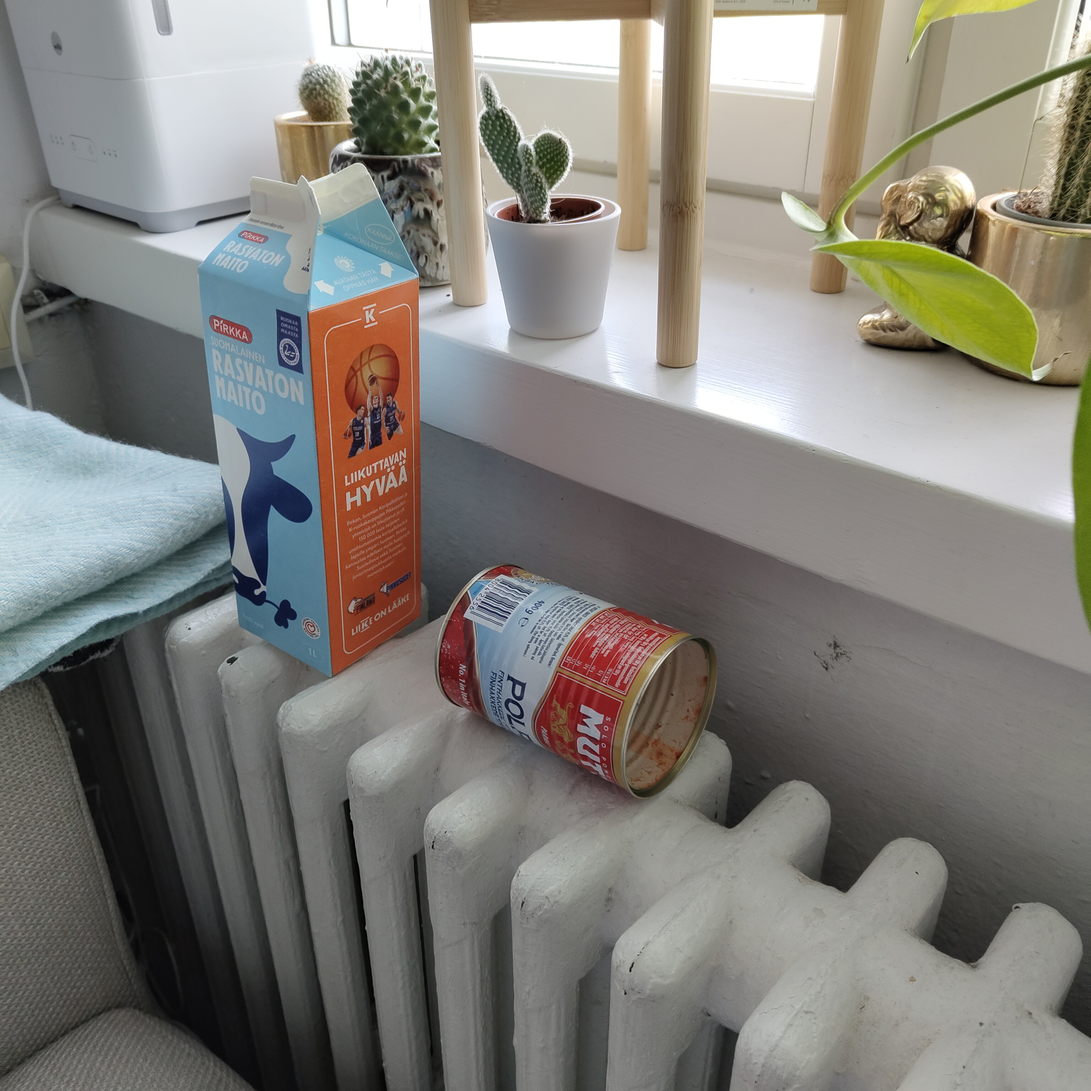Dryckeskartong: (197, 163, 421, 678)
Konservburk: (434, 564, 718, 799)
